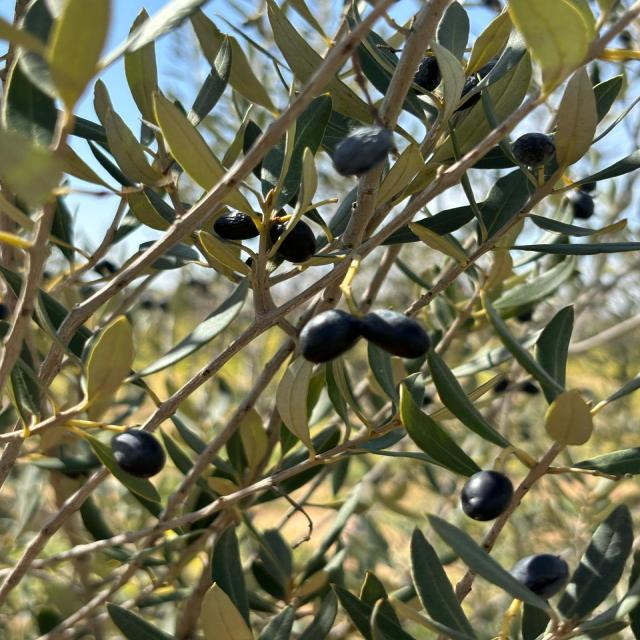Healthy: (399, 384, 479, 477), (299, 310, 361, 364), (360, 310, 429, 358), (461, 470, 513, 521), (112, 429, 165, 478), (511, 134, 555, 168)
